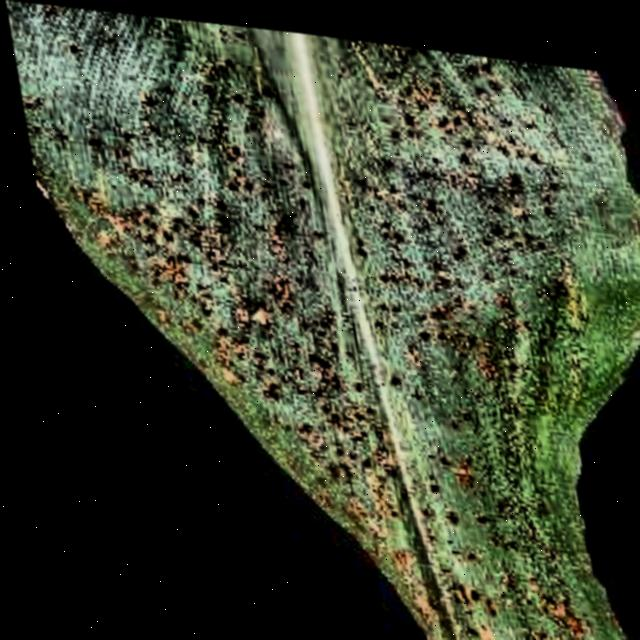common_rust: (26, 3, 640, 640)
